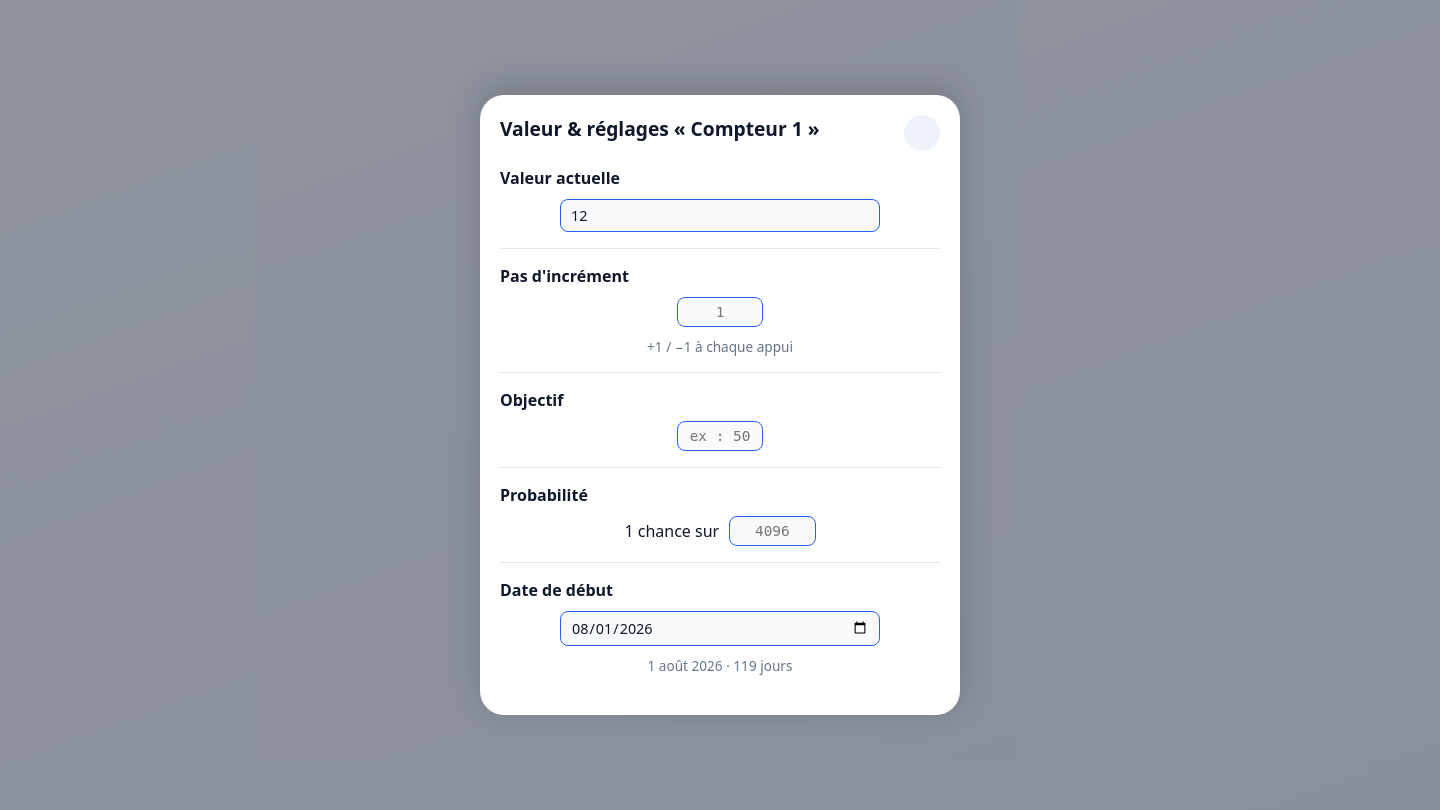
Scenario: CounterBehaviorSettingsPanel › valeur actuelle › rejette une saisie contenant des lettres plutôt que de garder seulement les chiffres
Step 1. Replace the text in the field showing "12" with "abd7" → (720, 216), box [560, 199, 880, 232]
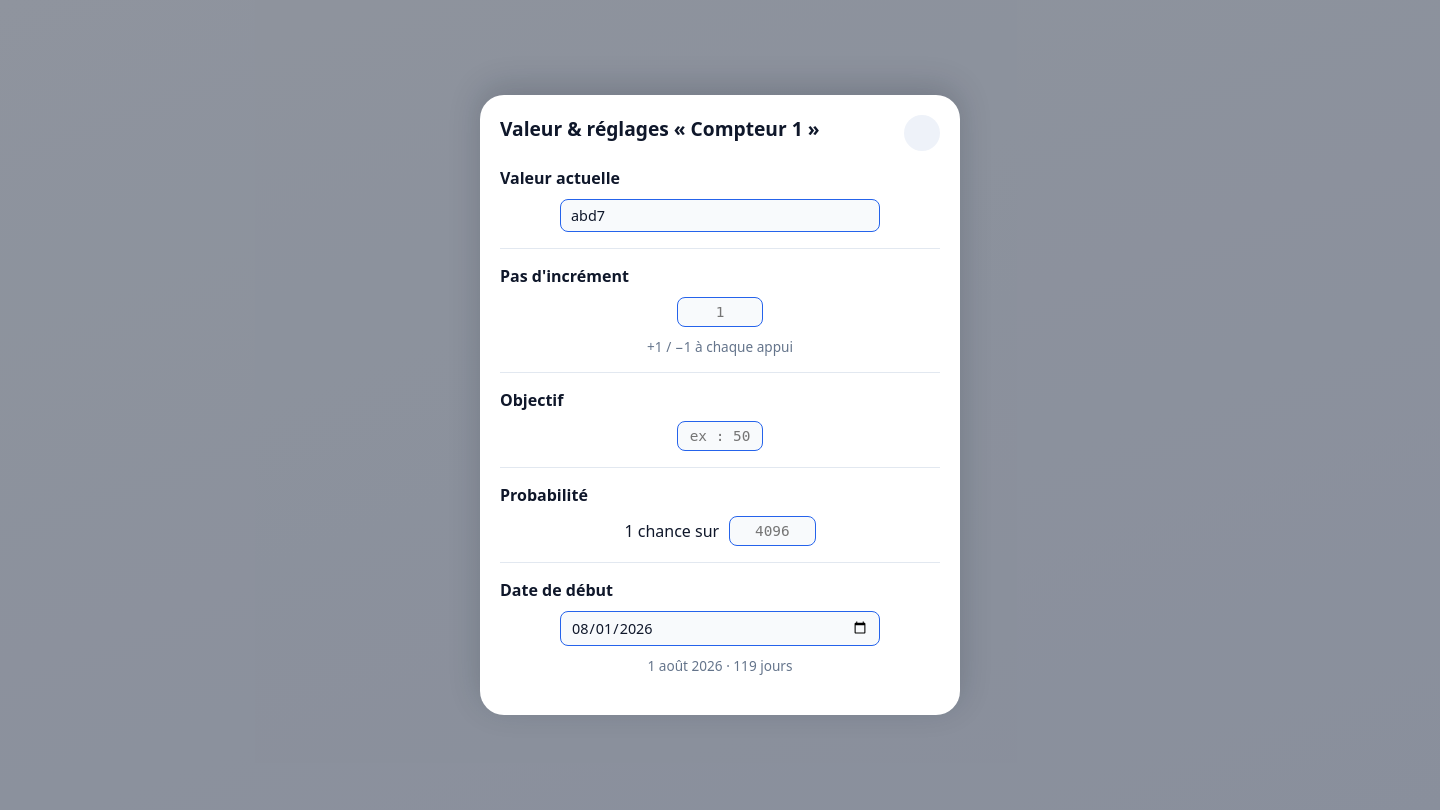
Step 2. Press Enter in the field showing "12", box [560, 199, 880, 232]
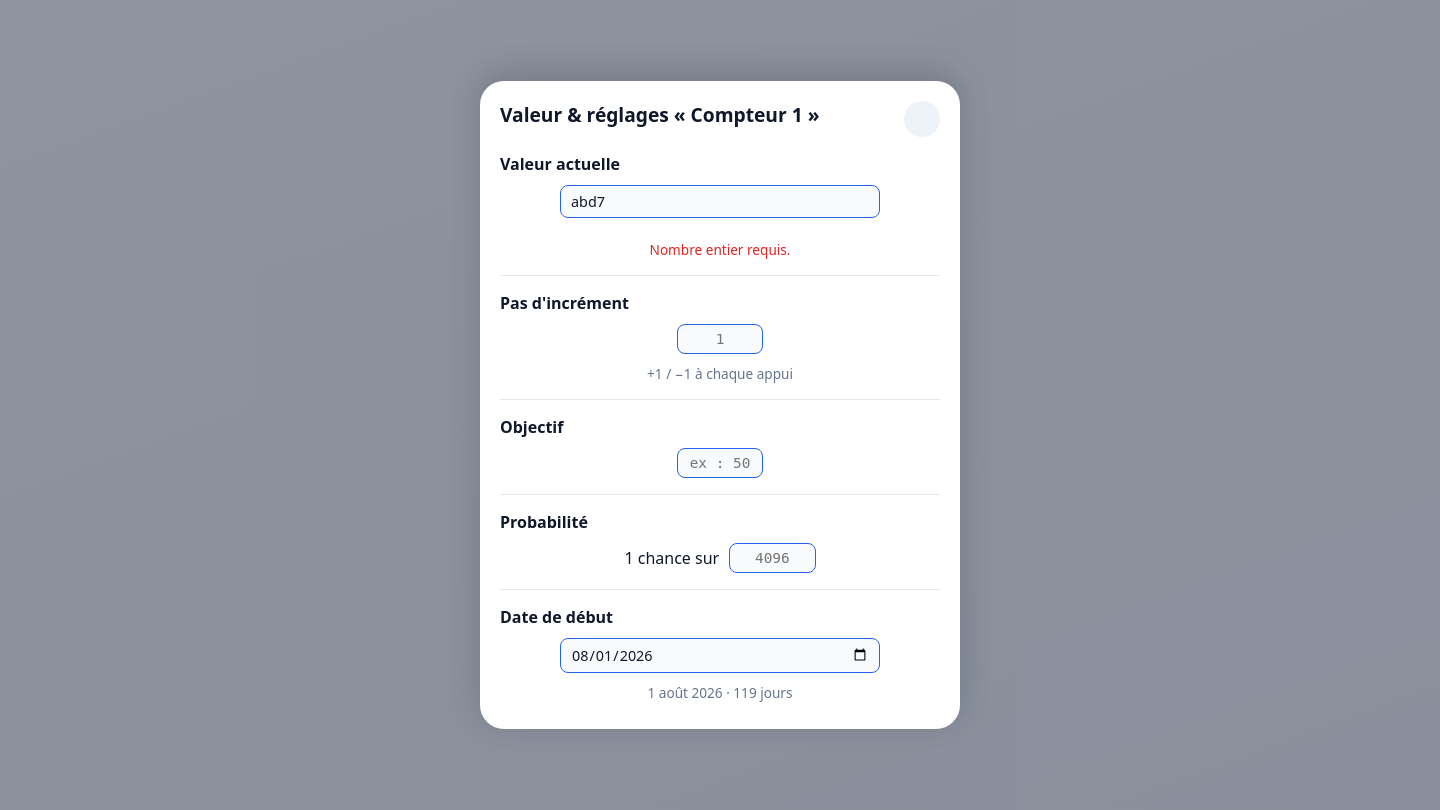
Expected: the text "Nombre entier requis." is shown, [650, 240, 790, 259]
